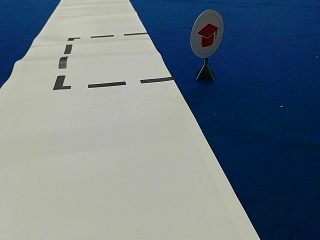school: (190, 10, 222, 56)
